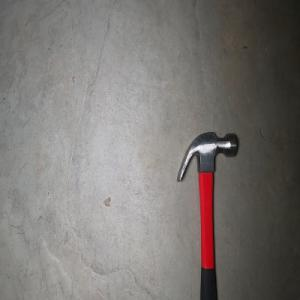Hammer: (175, 131, 238, 300)
